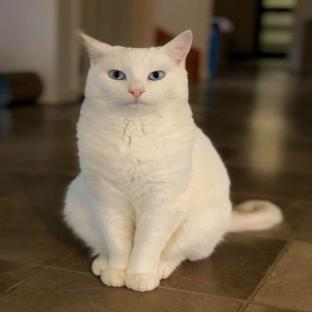Animal: (63, 30, 283, 292)
